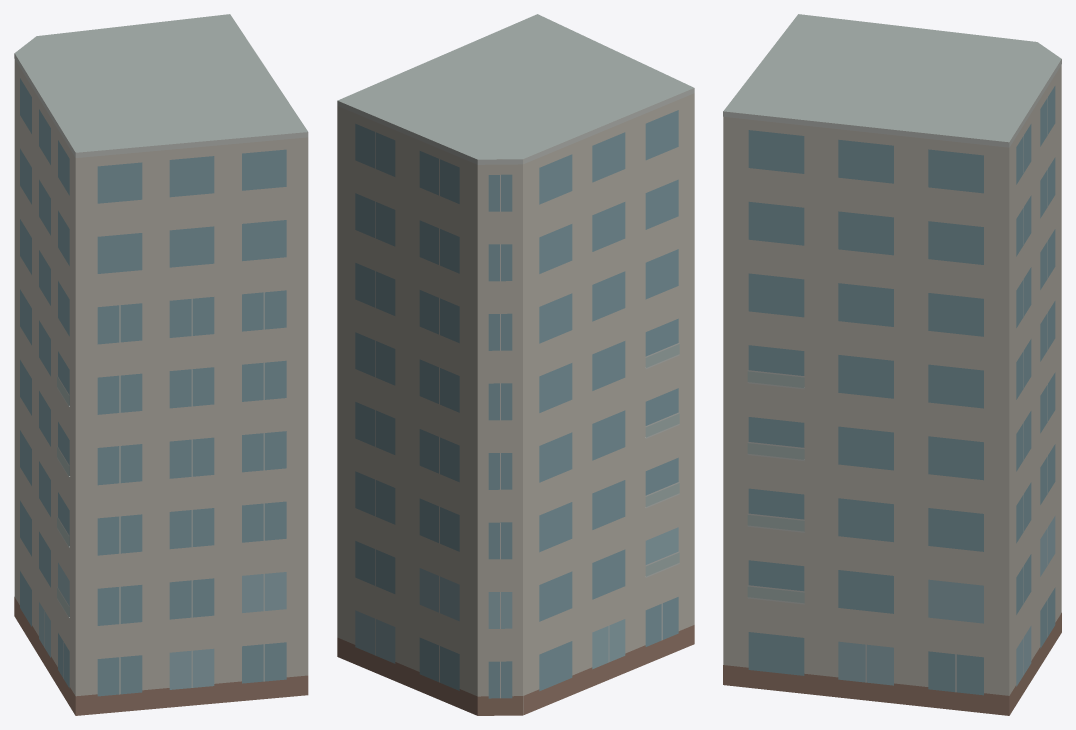
Rendered from survey-upis-32877003.glb.
3 renders of one model, left to right at view 1: azimuth 30°, elevation 25°; view 2: azimuth 150°, elevation 25°; view 3: azimuth 270°, elevation 25°, orthographic. The views are drawn at different scales.
Visible parts, largest first — view 1: survey-upis-32877003.tmp; view 2: survey-upis-32877003.tmp; view 3: survey-upis-32877003.tmp.
Boxes of the visible parts, left/top/right/bottom form: survey-upis-32877003.tmp: left=14, top=14, right=308, bottom=715; survey-upis-32877003.tmp: left=337, top=14, right=694, bottom=715; survey-upis-32877003.tmp: left=723, top=14, right=1061, bottom=715.
Size of the model in its own units: 12.43 by 25.9 by 13.87.
